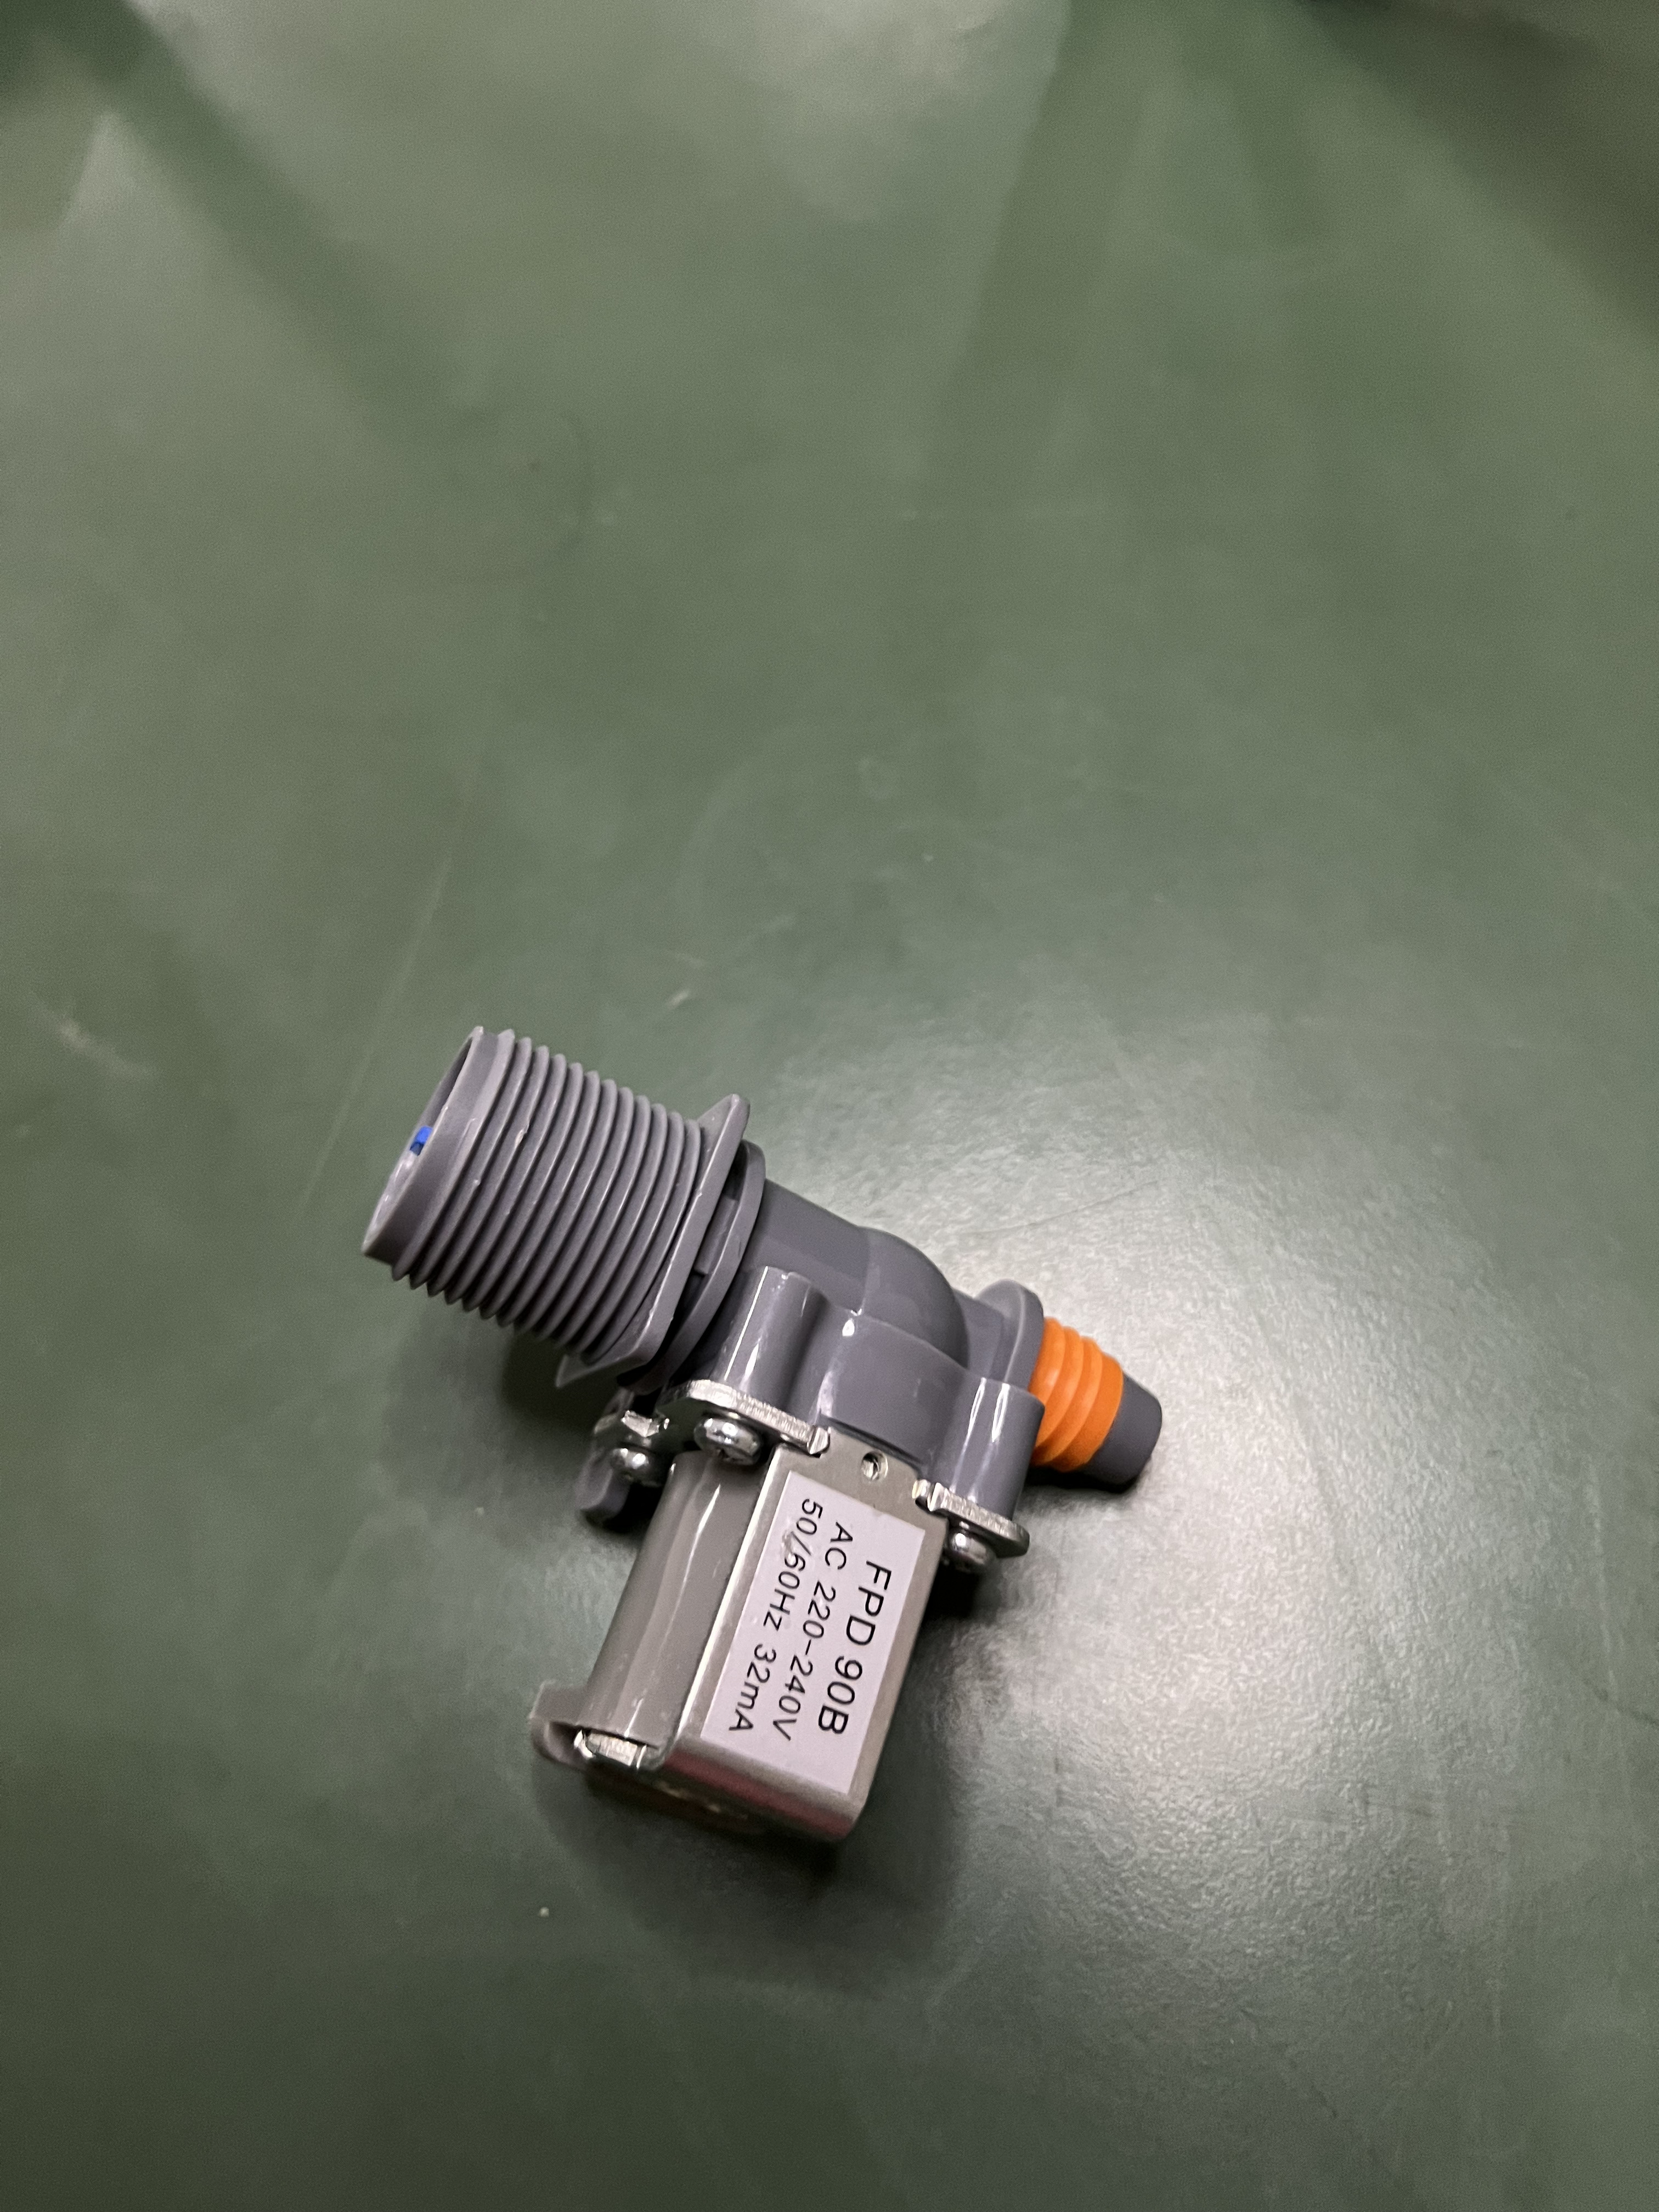inlet_valves: (354, 1012, 1195, 1862)
